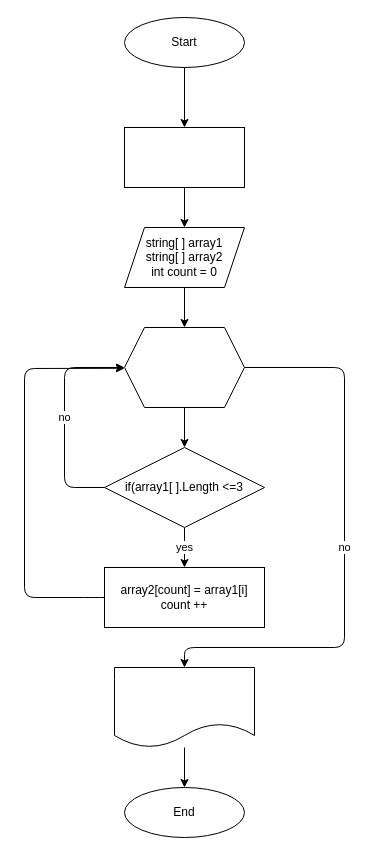
Image size: 370x855. Some labels were removed from this diagram. The shapes that lost their labels are listed below. From the top down, each one's centre as x and y in pixels, then its label:
(x=184, y=157): SecondArrayWithIF
(x=184, y=367): for(int i = 0; i < array1.Length; i ++;
(x=184, y=707): PrintArray(array2)
